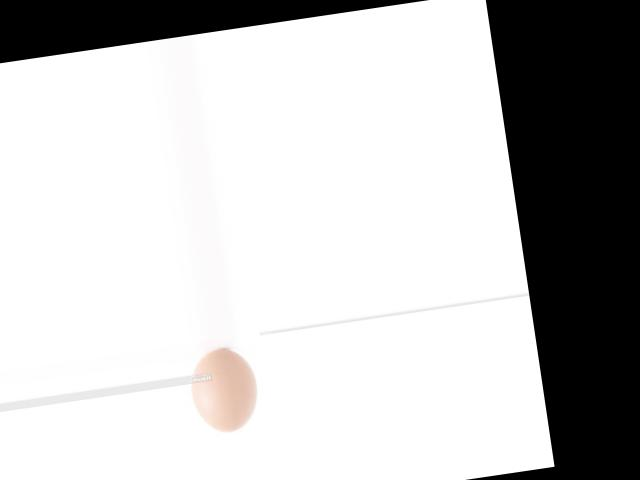egg: (185, 346, 262, 436)
